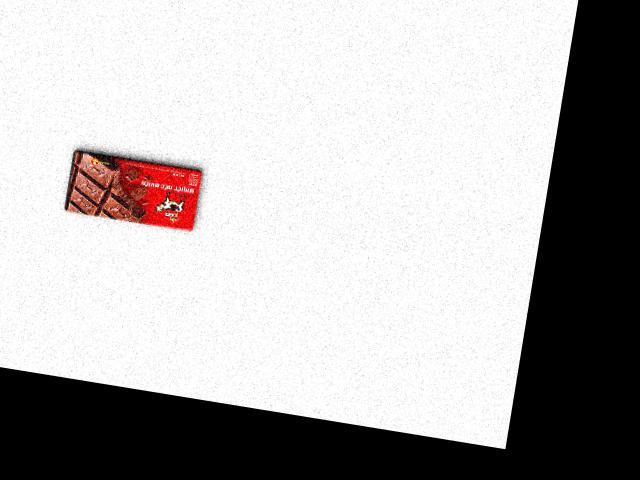chocolate: (61, 144, 207, 235)
